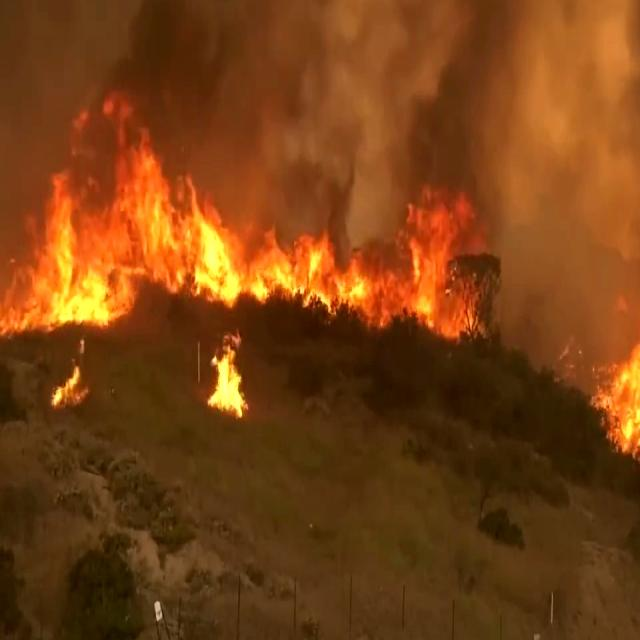fire: (10, 72, 217, 332), (190, 172, 497, 340), (613, 223, 640, 479)
smoke: (0, 0, 523, 98)
